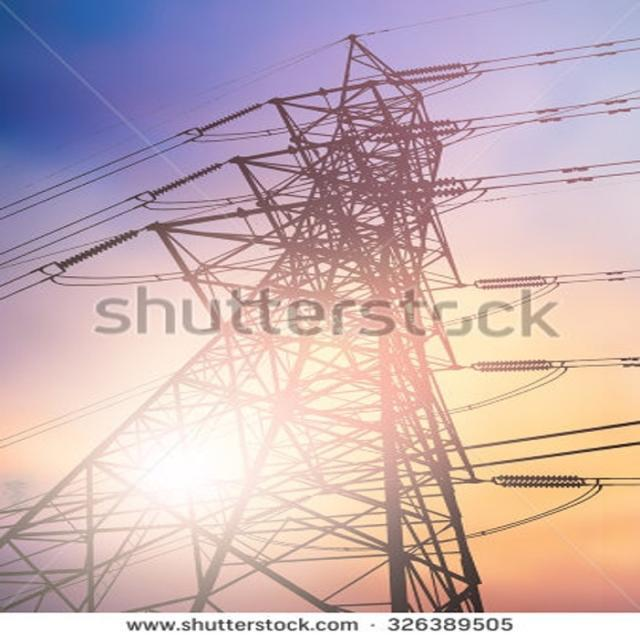non-critical vegetation: (5, 31, 512, 588)
